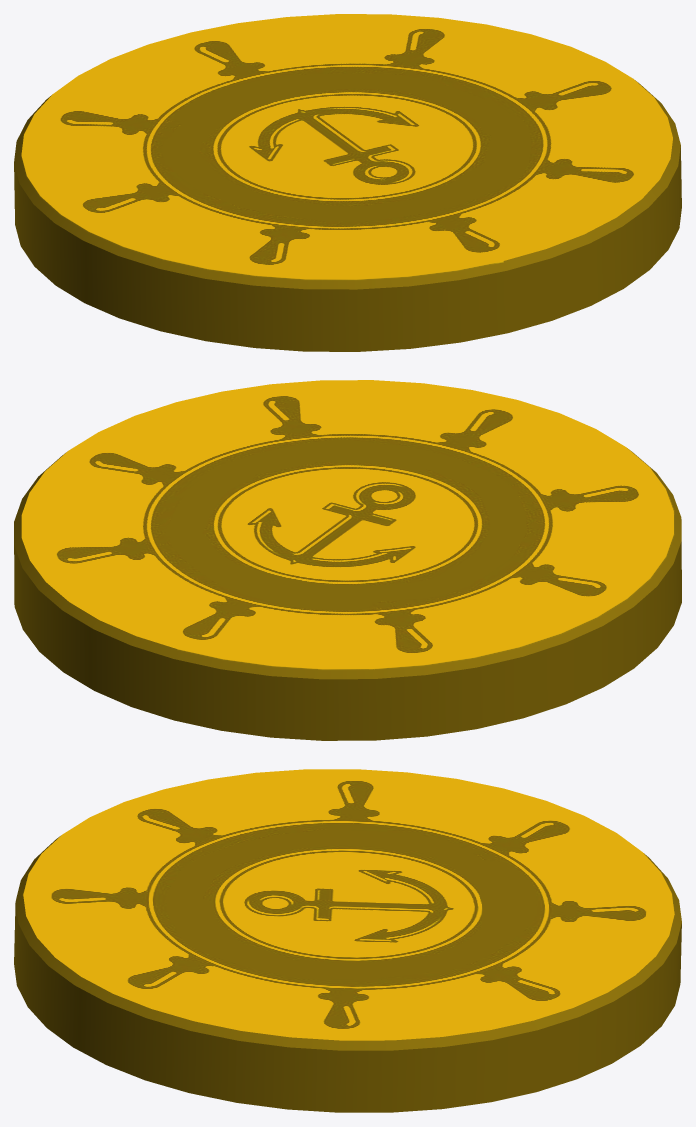
The model's file is copper.glb.
The picture shows the model from 3 angles, top to bottom: view 1: azimuth 30°, elevation 25°; view 2: azimuth 150°, elevation 25°; view 3: azimuth 270°, elevation 25°; orthographic projection.
Parts seen in each view (by area): view 1: pCylinder3; view 2: pCylinder3; view 3: pCylinder3.
Boxes of the visible parts, <box> form: pCylinder3: <box>14,14,681,351</box>; pCylinder3: <box>14,380,681,740</box>; pCylinder3: <box>14,769,681,1112</box>.
Size of the model in its own units: 1.25 by 0.1708 by 1.25.
1 material, 1 textured.
